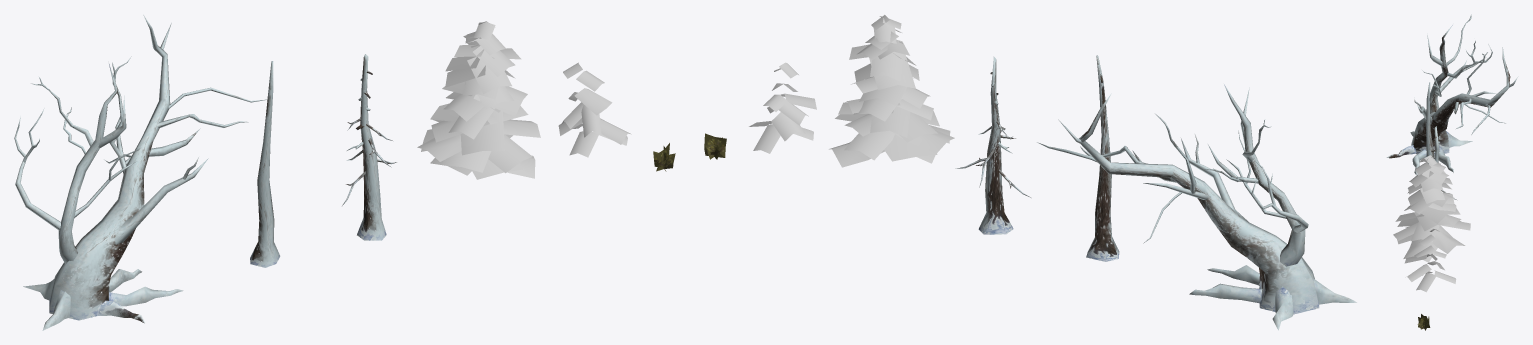
The model's file is f_2105_Tree_01.FBX.
The picture shows the model from 3 angles, left to right: view 1: azimuth 30°, elevation 25°; view 2: azimuth 150°, elevation 25°; view 3: azimuth 270°, elevation 25°; orthographic projection. The views are drawn at different scales.
Visible parts, largest first — view 1: f_1999_boat18z, f_1999_boat19, f_1999_boat21, f_1999_boat22, f_1999_boat20; view 2: f_1999_boat18z, f_1999_boat19, f_1999_boat21, f_1999_boat22, f_1999_boat20, zw_guanmu_02; view 3: f_1999_boat18z, f_1999_boat19, f_1999_boat22, f_1999_boat20, f_1999_boat21, zw_guanmu_02.
Boxes of the visible parts, x1,y1,x2,y2 form: f_1999_boat18z: (14, 15, 266, 330); f_1999_boat19: (417, 21, 540, 179); f_1999_boat21: (342, 54, 396, 240); f_1999_boat22: (558, 62, 631, 157); f_1999_boat20: (250, 61, 280, 267); f_1999_boat18z: (1037, 84, 1356, 330); f_1999_boat19: (829, 15, 954, 167); f_1999_boat21: (955, 56, 1030, 234); f_1999_boat22: (749, 62, 816, 153); f_1999_boat20: (1086, 55, 1119, 261); zw_guanmu_02: (704, 133, 726, 159); f_1999_boat18z: (1386, 14, 1518, 175); f_1999_boat19: (1393, 155, 1470, 262); f_1999_boat22: (1404, 229, 1456, 292); f_1999_boat20: (1426, 82, 1434, 163); f_1999_boat21: (1431, 126, 1456, 199); zw_guanmu_02: (1417, 314, 1430, 330).
Bounding box in the file's own units: 3631 × 1202 × 1025.
